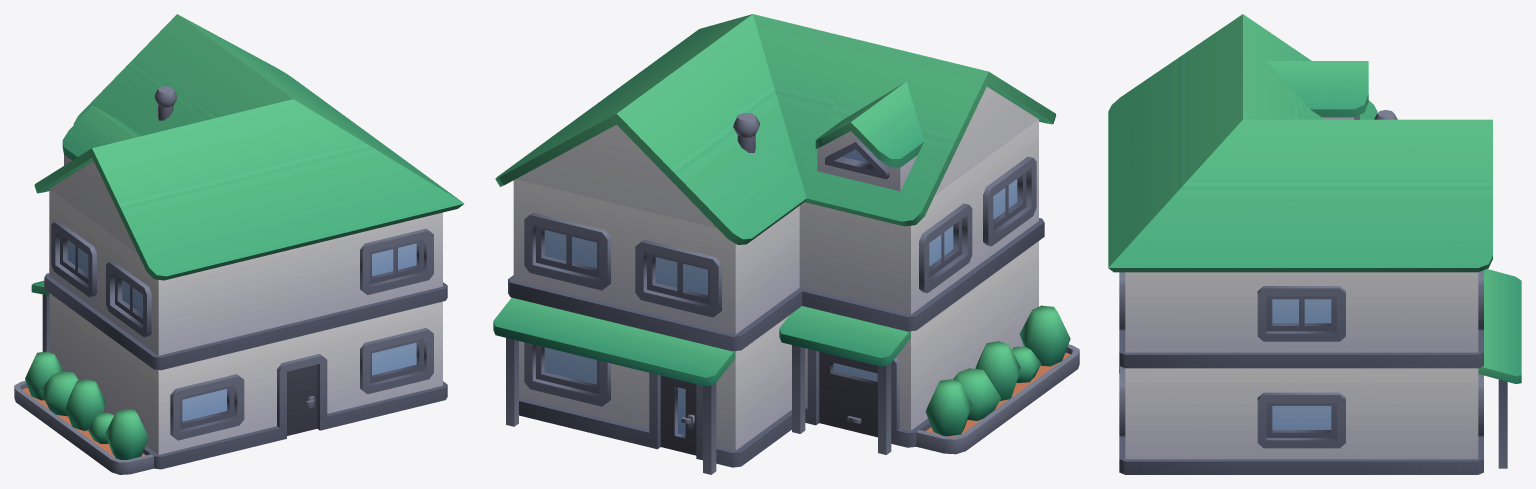
File: forest-house-alt.glb
The picture shows the model from 3 angles, left to right: view 1: azimuth 30°, elevation 25°; view 2: azimuth 150°, elevation 25°; view 3: azimuth 270°, elevation 25°; orthographic projection. The views are drawn at different scales.
Visible parts, largest first — view 1: building-type-f; view 2: building-type-f; view 3: building-type-f.
Part boxes in pixels (x1=…): building-type-f: x1=14, y1=14, x2=464, y2=474; building-type-f: x1=493, y1=14, x2=1079, y2=474; building-type-f: x1=1108, y1=14, x2=1521, y2=474.
Size of the model in its own units: 1.43 by 1.14 by 1.41.
Materials: 1 (1 with a texture image).
